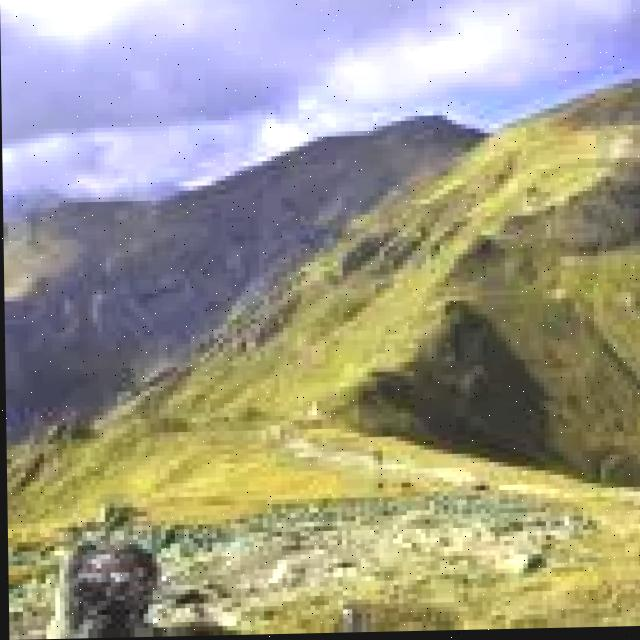Malolaczniak: (358, 80, 494, 154)
